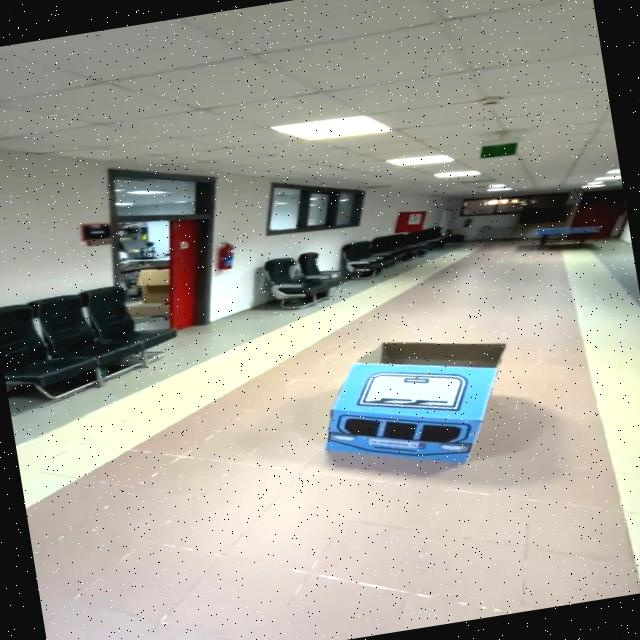blue_car: (268, 310, 572, 512)
